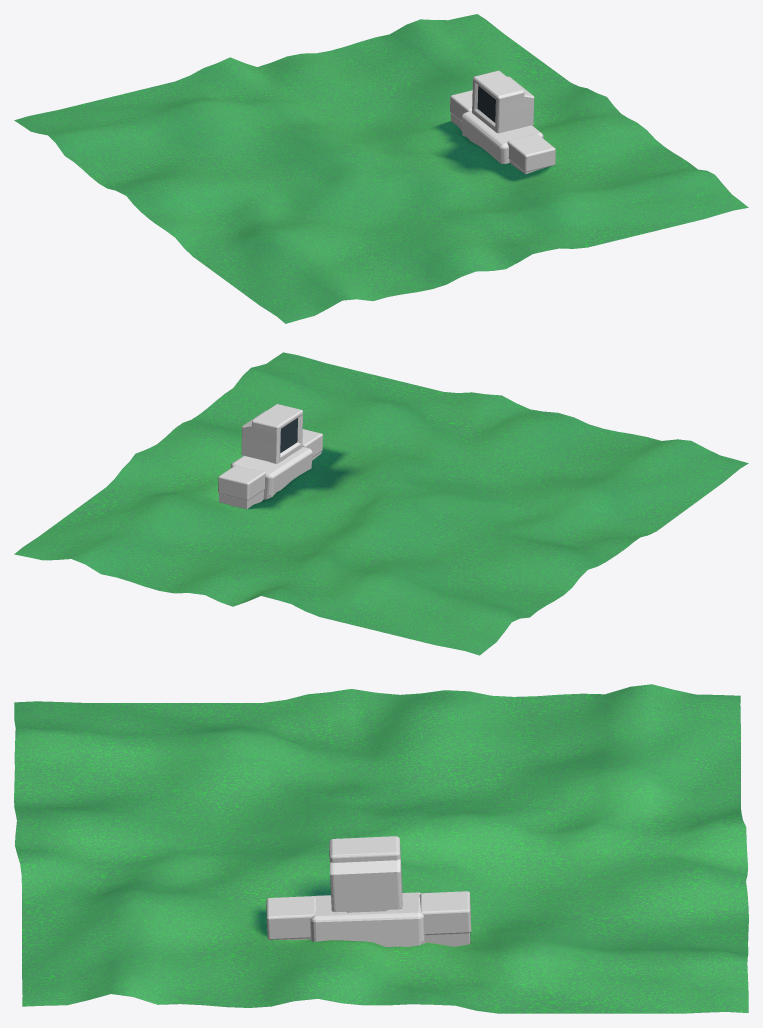
Rendered from GrassWorld.fbx.
3 views of the same model, one above another, from view 1: azimuth 30°, elevation 25°; view 2: azimuth 150°, elevation 25°; view 3: azimuth 270°, elevation 25° (orthographic). The views are drawn at different scales.
Visible parts, largest first — view 1: Grassplane, Cube.001, Cube, Cube.004, Cube.003; view 2: Grassplane, Cube.001, Cube.003, Cube; view 3: Grassplane, Cube.001, Cube, Cube.003, Cube.004.
Part boxes in pixels (left/top/right/bottom): Grassplane: left=14, top=14, right=748, bottom=323; Cube.001: left=472, top=70, right=534, bottom=133; Cube: left=461, top=111, right=543, bottom=163; Cube.004: left=507, top=134, right=555, bottom=174; Cube.003: left=450, top=90, right=472, bottom=130; Grassplane: left=14, top=352, right=748, bottom=655; Cube.001: left=241, top=404, right=302, bottom=463; Cube.003: left=218, top=465, right=266, bottom=509; Cube: left=230, top=447, right=312, bottom=499; Grassplane: left=14, top=684, right=748, bottom=1013; Cube.001: left=329, top=836, right=402, bottom=912; Cube: left=310, top=892, right=424, bottom=946; Cube.003: left=419, top=891, right=471, bottom=946; Cube.004: left=266, top=896, right=316, bottom=940.
Size of the model in its own units: 13564 by 2274 by 13627.
5 materials, 2 textured.
